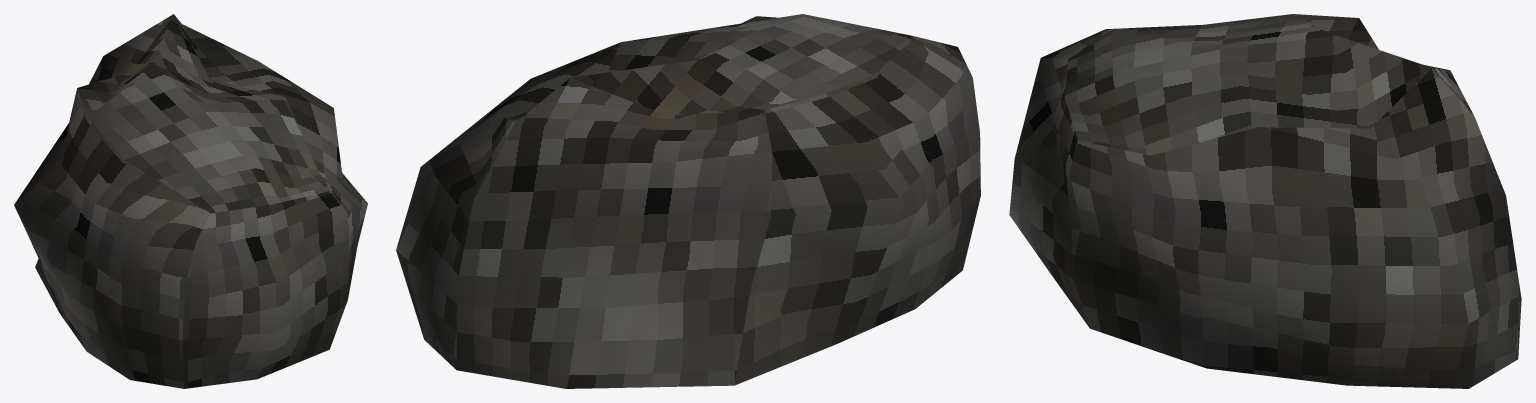
Rendered from rock1.obj.
3 renders of one model, left to right at view 1: azimuth 30°, elevation 25°; view 2: azimuth 150°, elevation 25°; view 3: azimuth 270°, elevation 25°, orthographic. The views are drawn at different scales.
Visible parts, largest first — view 1: Cube.001; view 2: Cube.001; view 3: Cube.001.
Boxes of the visible parts, bbox=[...] form: Cube.001: bbox=[14, 14, 367, 388]; Cube.001: bbox=[396, 14, 980, 388]; Cube.001: bbox=[1009, 14, 1521, 388].
Size of the model in its own units: 1.41 by 0.8938 by 1.58.
